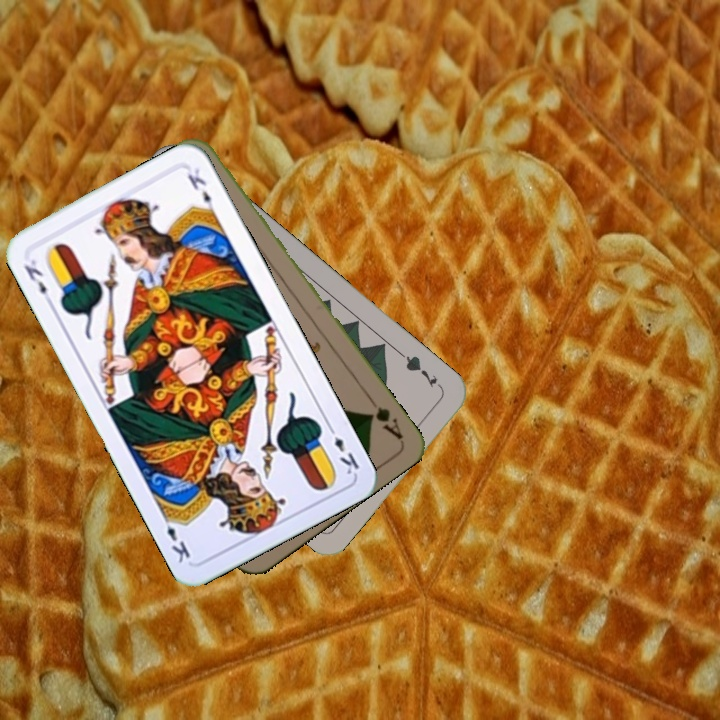EK: (323, 420, 362, 477), (19, 255, 56, 307)
G7: (396, 349, 445, 392)
GA: (363, 391, 406, 443)
